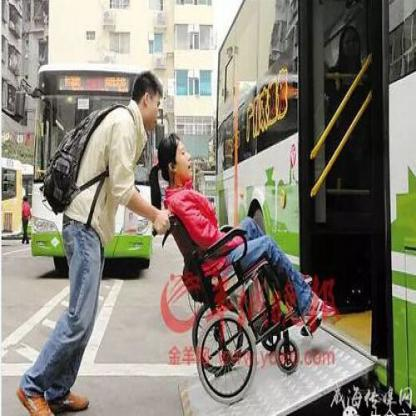wheelchair: (153, 134, 326, 396)
